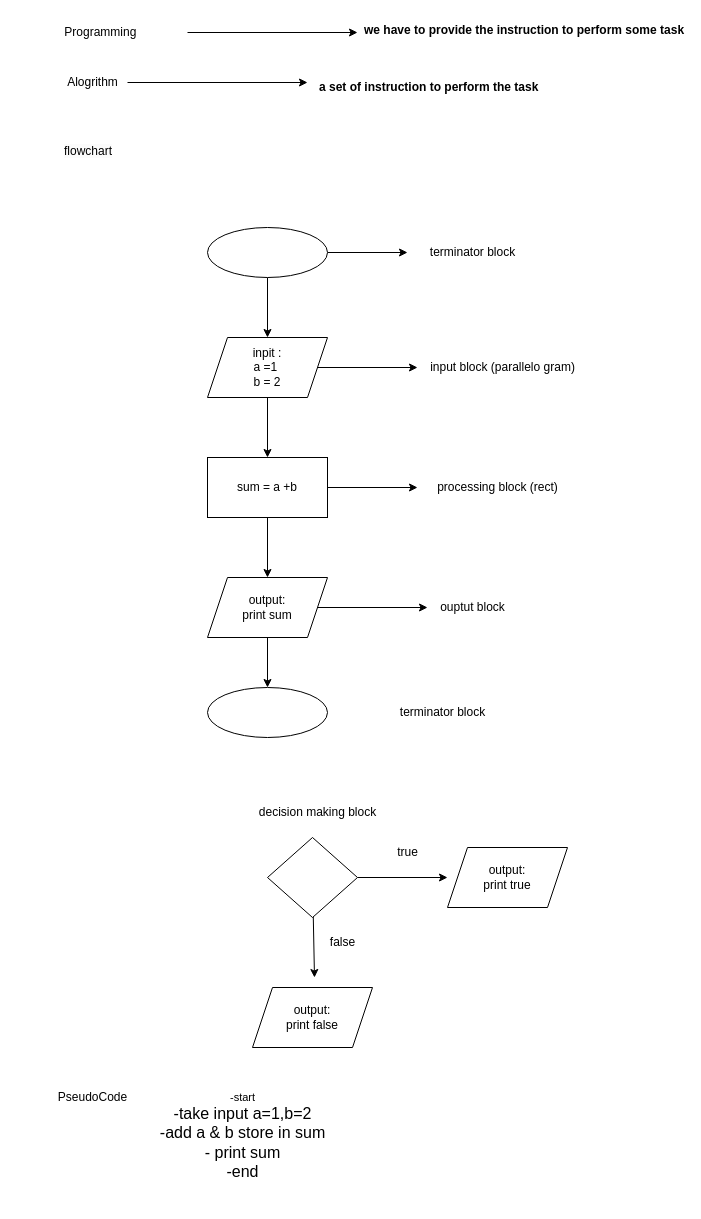
This 701x1219 diagram has some shape labels left out. Each missing label, with the centre of its shape:
"end" belongs at (x=267, y=712).
"start" belongs at (x=267, y=252).
